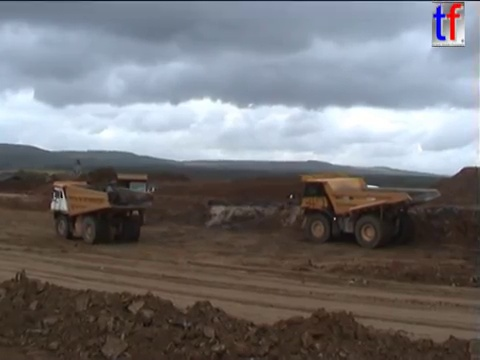truck: (287, 171, 441, 249), (47, 179, 156, 245), (100, 171, 155, 226)
